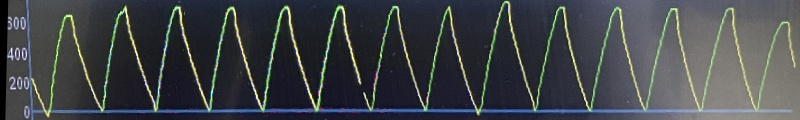normal_volume: (48, 0, 774, 117)
